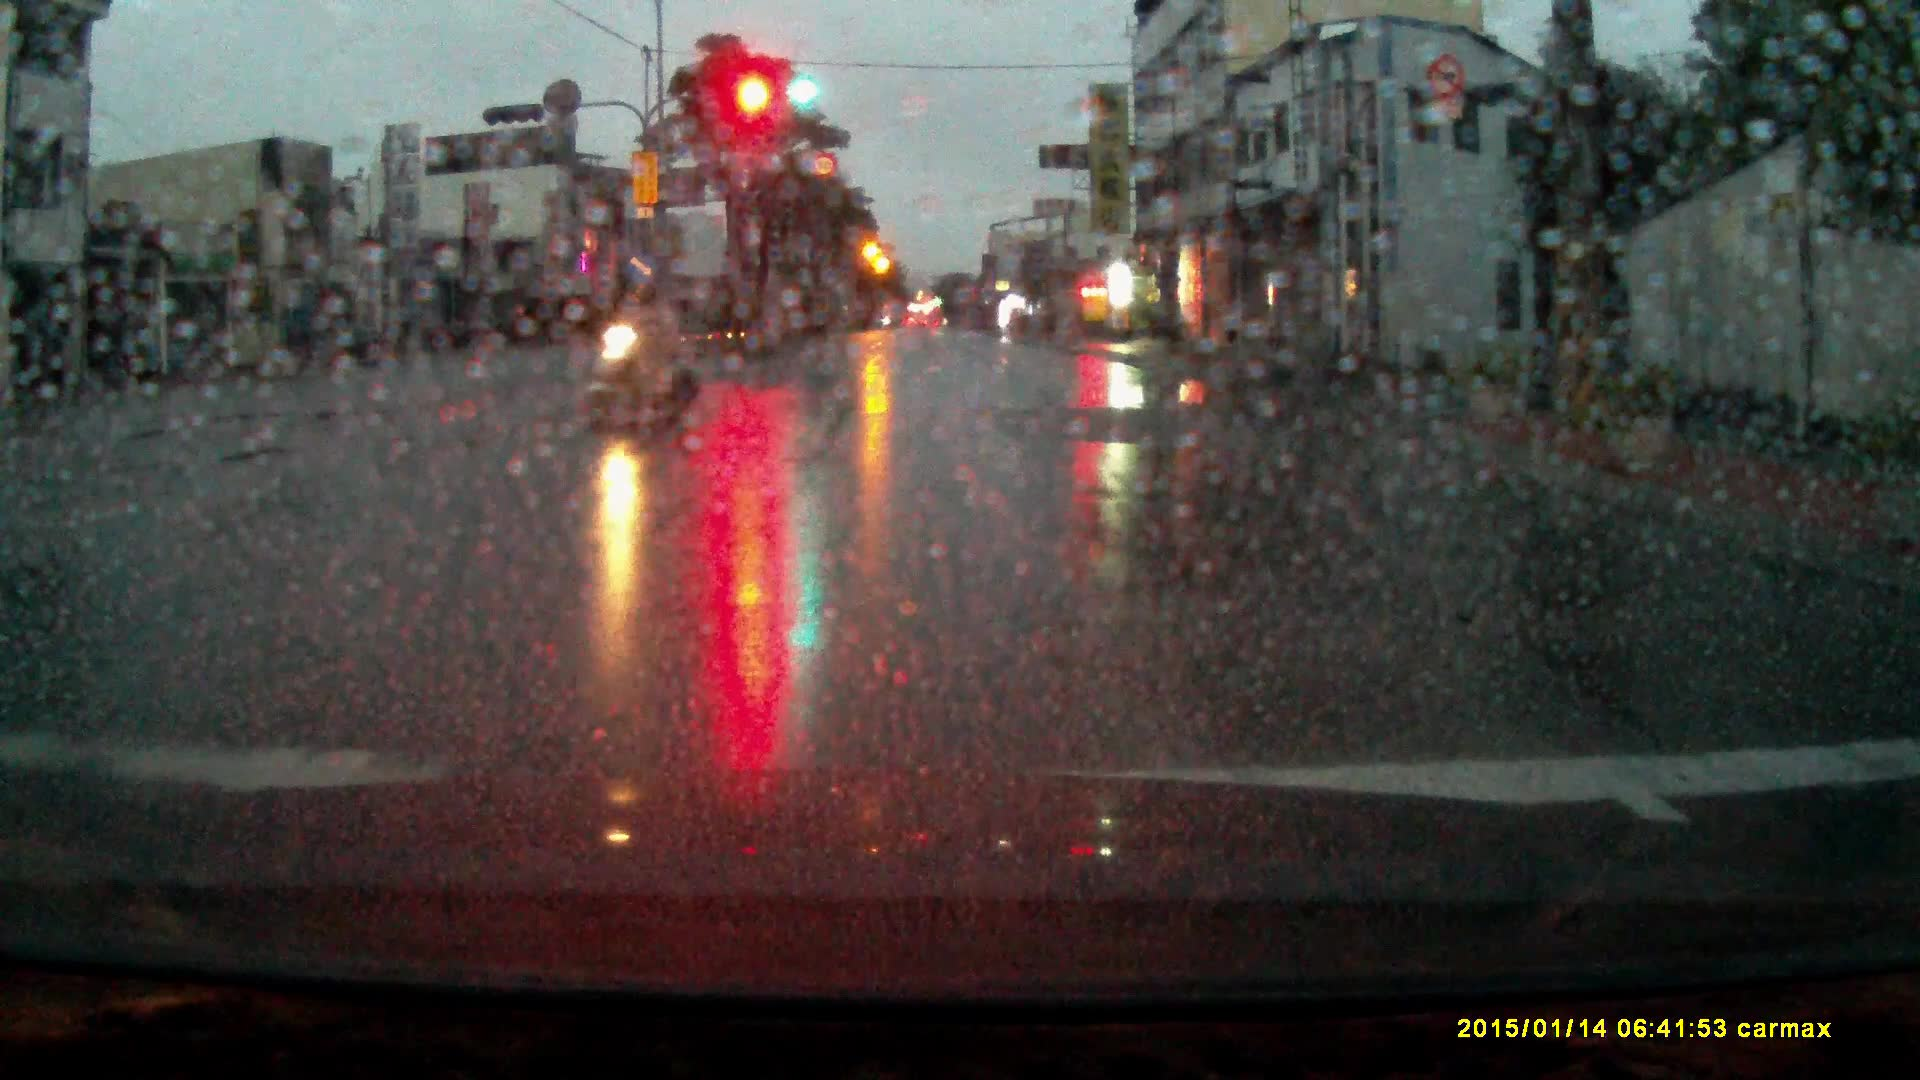rider: (582, 265, 702, 433)
